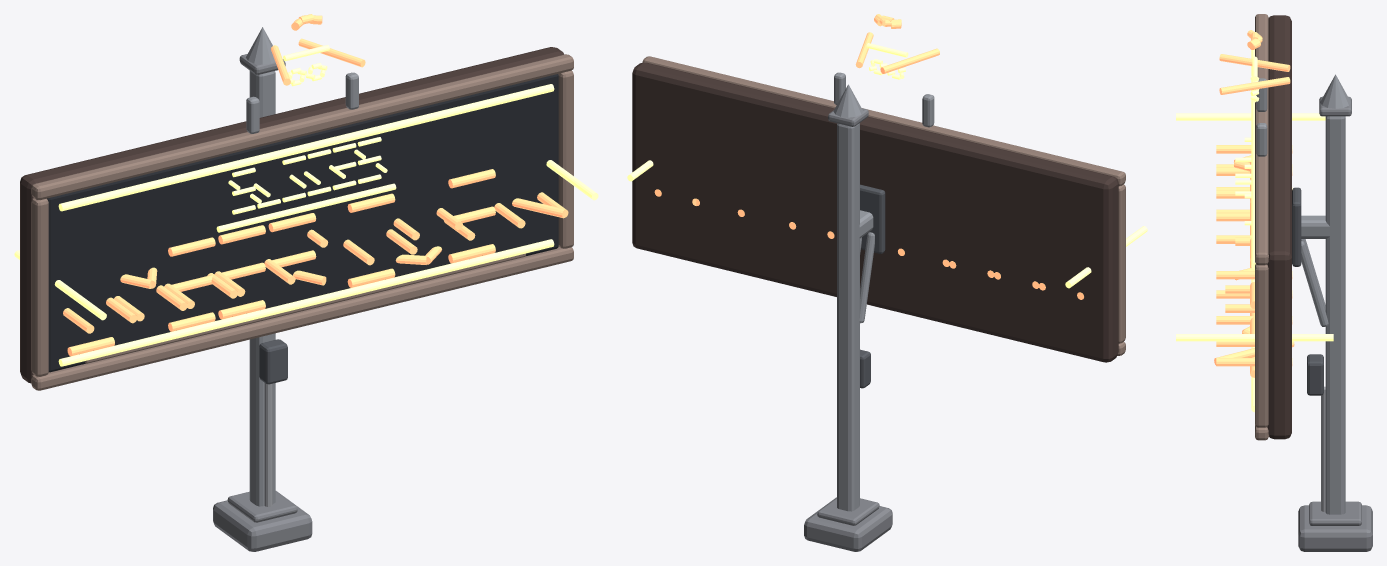
Rendered from sign_pizza.glb.
The picture shows the model from 3 angles, left to right: view 1: azimuth 30°, elevation 25°; view 2: azimuth 150°, elevation 25°; view 3: azimuth 270°, elevation 25°; orthographic projection. The views are drawn at different scales.
Visible parts, largest first — view 1: sign_pizza_face, sign_pizza_rail_top, sign_pizza_rail_bottom, sign_pizza_plate, sign_pizza_border_s0, sign_pizza_border_s2, sign_pizza_mast_0, sign_pizza_rail_l, sign_pizza_foot_0, sign_pizza_rail_r, sign_pizza_band, sign_pizza_rule_s0 (+3 smaller); view 2: sign_pizza_plate, sign_pizza_mast_0, sign_pizza_rail_top, sign_pizza_foot_0, sign_pizza_rail_l, sign_pizza_stiffener_0, sign_pizza_footplate_0, sign_pizza_brace_0a; view 3: sign_pizza_plate, sign_pizza_mast_0, sign_pizza_rail_top, sign_pizza_foot_0, sign_pizza_rail_r, sign_pizza_footplate_0, sign_pizza_border_s1, sign_pizza_border_s3, sign_pizza_stiffener_0, sign_pizza_brace_0b, sign_pizza_border_s2, sign_pizza_junction (+13 smaller).
Part boxes in pixels (left/top/right/bottom): sign_pizza_face: left=47, top=74, right=558, bottom=372; sign_pizza_rail_top: left=31, top=54, right=573, bottom=200; sign_pizza_rail_bottom: left=31, top=246, right=573, bottom=390; sign_pizza_plate: left=20, top=47, right=564, bottom=383; sign_pizza_border_s0: left=58, top=239, right=554, bottom=366; sign_pizza_border_s2: left=58, top=84, right=554, bottom=211; sign_pizza_mast_0: left=249, top=70, right=275, bottom=506; sign_pizza_rail_l: left=31, top=198, right=48, bottom=376; sign_pizza_foot_0: left=213, top=491, right=312, bottom=551; sign_pizza_rail_r: left=558, top=70, right=573, bottom=248; sign_pizza_band: left=84, top=253, right=525, bottom=363; sign_pizza_rule_s0: left=216, top=183, right=396, bottom=232; sign_pizza_plate: left=632, top=62, right=1118, bottom=362; sign_pizza_mast_0: left=837, top=123, right=859, bottom=511; sign_pizza_rail_top: left=642, top=56, right=1125, bottom=186; sign_pizza_foot_0: left=804, top=497, right=892, bottom=551; sign_pizza_rail_l: left=1118, top=184, right=1125, bottom=343; sign_pizza_stiffener_0: left=860, top=184, right=885, bottom=253; sign_pizza_footplate_0: left=817, top=498, right=879, bottom=525; sign_pizza_brace_0a: left=859, top=232, right=874, bottom=323; sign_pizza_plate: left=1267, top=15, right=1291, bottom=439; sign_pizza_mast_0: left=1325, top=116, right=1345, bottom=514; sign_pizza_rail_top: left=1255, top=14, right=1268, bottom=265; sign_pizza_foot_0: left=1298, top=505, right=1372, bottom=551; sign_pizza_rail_r: left=1255, top=264, right=1268, bottom=427; sign_pizza_footplate_0: left=1309, top=501, right=1361, bottom=525; sign_pizza_border_s1: left=1176, top=334, right=1333, bottom=341; sign_pizza_border_s3: left=1176, top=113, right=1325, bottom=120; sign_pizza_stiffener_0: left=1292, top=187, right=1301, bottom=266; sign_pizza_brace_0b: left=1301, top=241, right=1328, bottom=326; sign_pizza_border_s2: left=1251, top=49, right=1255, bottom=269; sign_pizza_junction: left=1307, top=354, right=1323, bottom=395.
Bounding box in the file's own units: 3.68 × 3.59 × 1.27.
